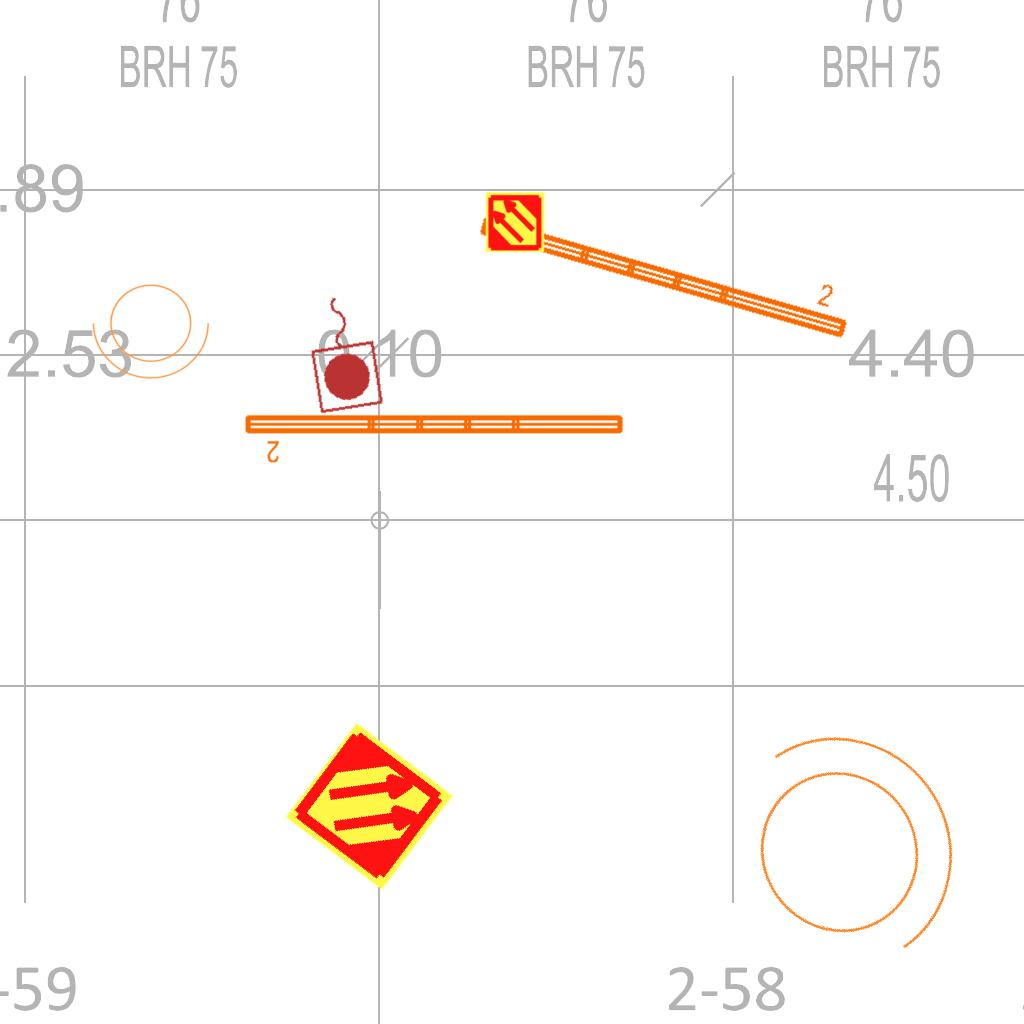ASR_Ansaugrauchmelder: (281, 718, 458, 895), (484, 191, 546, 253)
Ambulanz_Pendelleuchte_LED: (472, 184, 861, 346), (241, 409, 628, 465)
Scheinwerfer_fuer_Alarmbeleuchtung: (676, 669, 1012, 1014), (88, 272, 220, 384)
Zugtaster: (298, 286, 390, 418)
